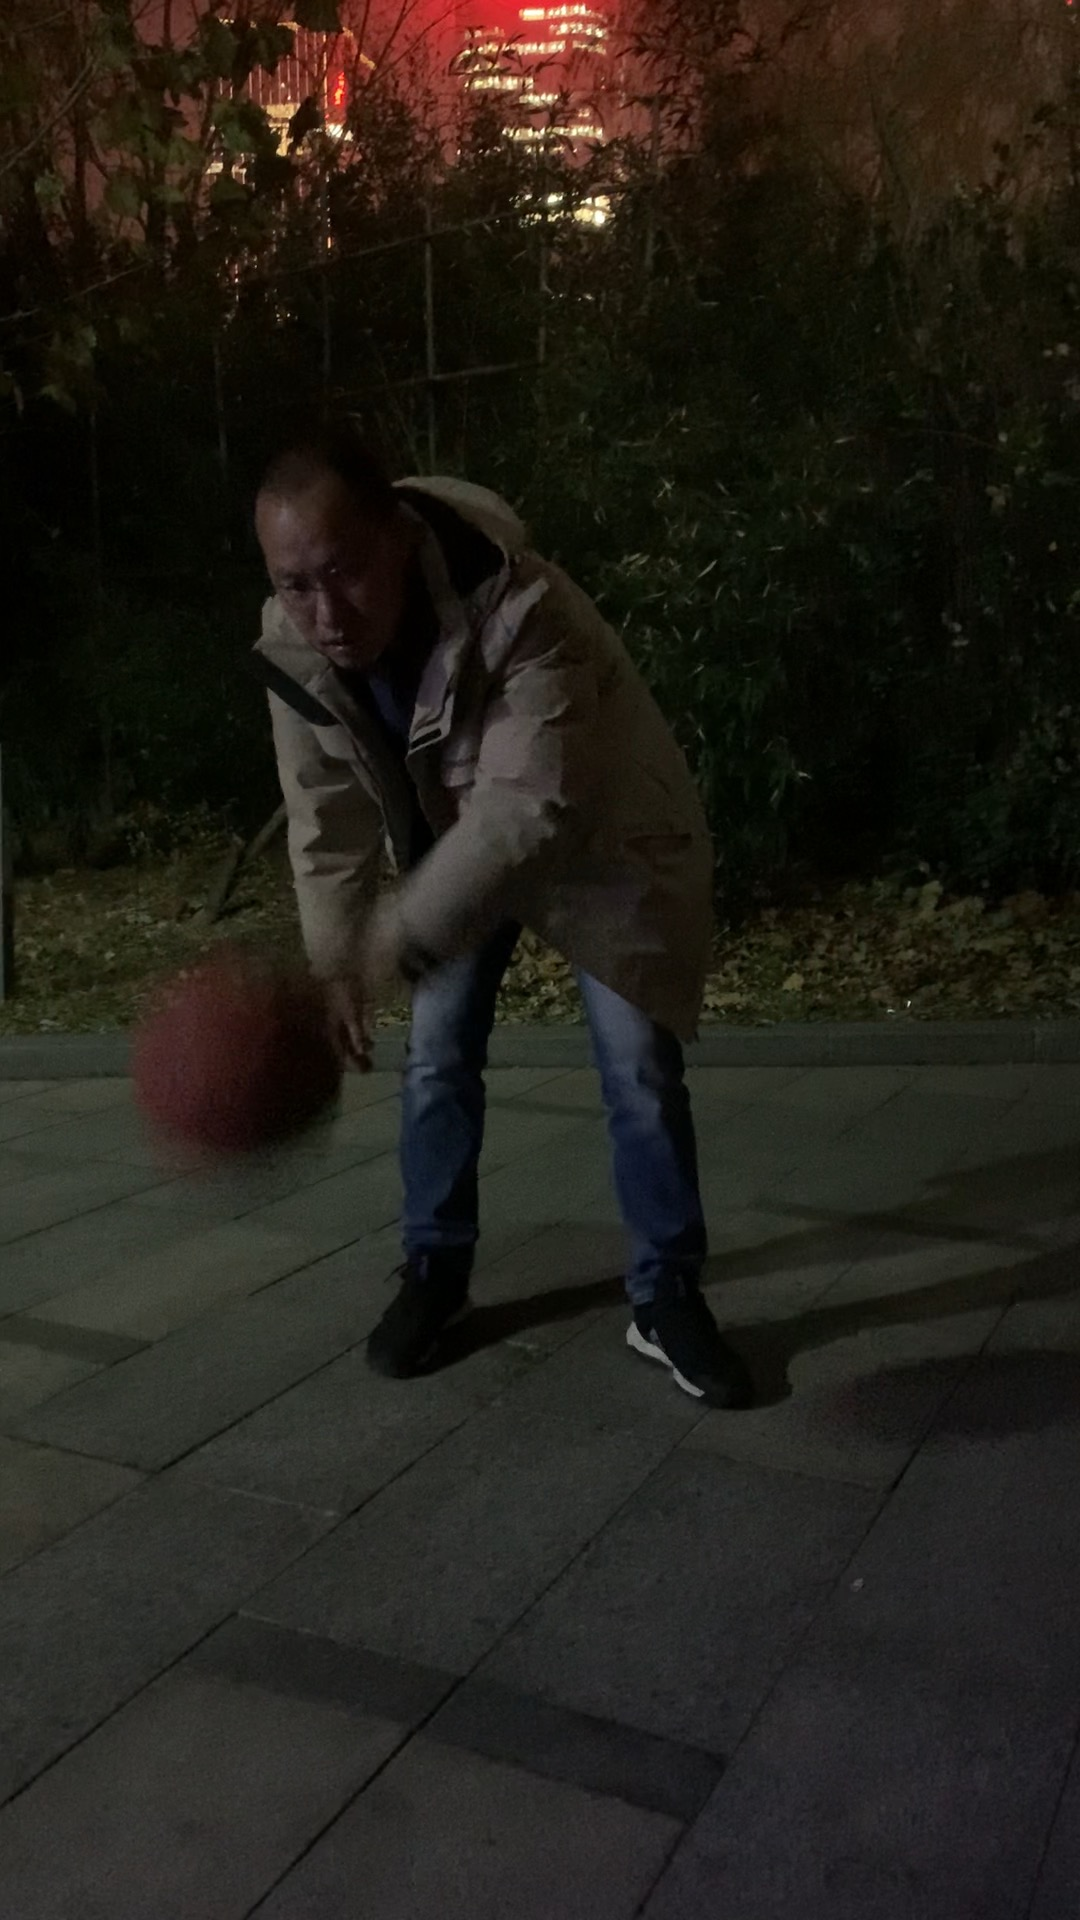ball: (136, 957, 348, 1168)
